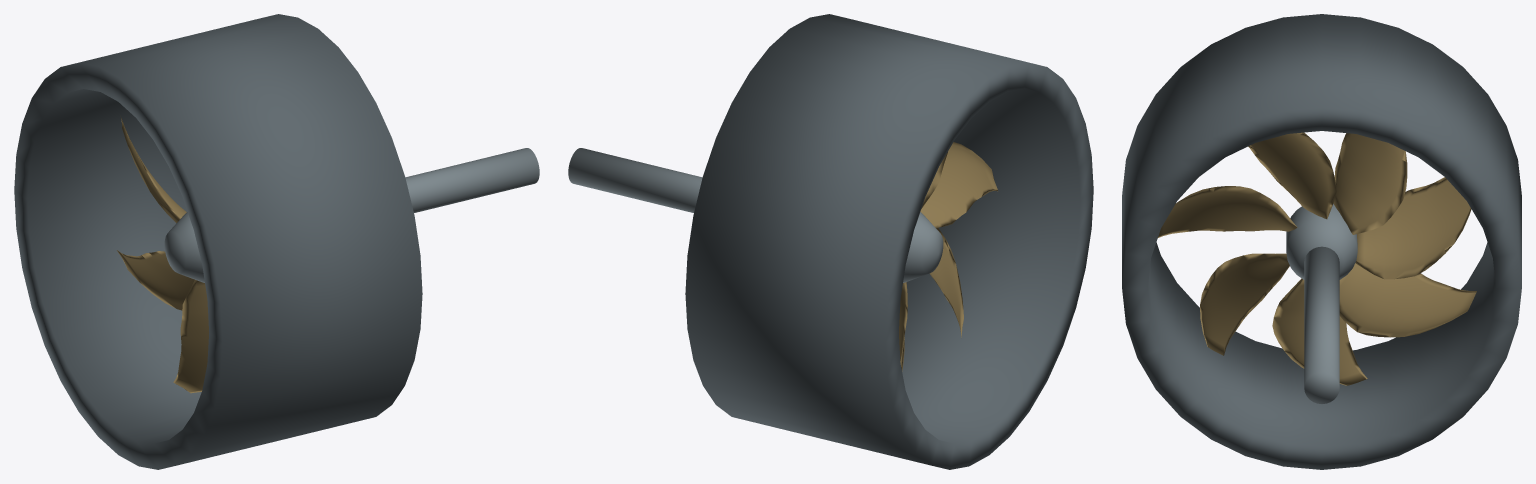
The model's file is RU_PROP_Typhoon_LOD0.fbx.
3 views of the same model, side by side, from view 1: azimuth 30°, elevation 25°; view 2: azimuth 150°, elevation 25°; view 3: azimuth 270°, elevation 25° (orthographic). The views are drawn at different scales.
Visible parts, largest first — view 1: RU_PROP_Typhoon_LOD0_Shroud.001, RU_PROP_Typhoon_LOD0_Shaft.001, RU_PROP_Typhoon_LOD0_Blade_05.001, RU_PROP_Typhoon_LOD0_Blade_06.001, RU_PROP_Typhoon_LOD0_Hub.001, RU_PROP_Typhoon_LOD0_Blade_00.001; view 2: RU_PROP_Typhoon_LOD0_Shroud.001, RU_PROP_Typhoon_LOD0_Shaft.001, RU_PROP_Typhoon_LOD0_Blade_03.001, RU_PROP_Typhoon_LOD0_Hub.001, RU_PROP_Typhoon_LOD0_Blade_04.001, RU_PROP_Typhoon_LOD0_Blade_05.001; view 3: RU_PROP_Typhoon_LOD0_Shroud.001, RU_PROP_Typhoon_LOD0_Blade_00.001, RU_PROP_Typhoon_LOD0_Blade_06.001, RU_PROP_Typhoon_LOD0_Blade_01.001, RU_PROP_Typhoon_LOD0_Shaft.001, RU_PROP_Typhoon_LOD0_Blade_04.001, RU_PROP_Typhoon_LOD0_Blade_03.001, RU_PROP_Typhoon_LOD0_Blade_02.001, RU_PROP_Typhoon_LOD0_Hub.001, RU_PROP_Typhoon_LOD0_Blade_05.001.
Part boxes in pixels (bbox=[...]): RU_PROP_Typhoon_LOD0_Shroud.001: bbox=[14, 14, 422, 469]; RU_PROP_Typhoon_LOD0_Shaft.001: bbox=[405, 148, 539, 212]; RU_PROP_Typhoon_LOD0_Blade_05.001: bbox=[173, 280, 208, 393]; RU_PROP_Typhoon_LOD0_Blade_06.001: bbox=[117, 250, 194, 310]; RU_PROP_Typhoon_LOD0_Hub.001: bbox=[164, 212, 204, 282]; RU_PROP_Typhoon_LOD0_Blade_00.001: bbox=[120, 116, 186, 222]; RU_PROP_Typhoon_LOD0_Shroud.001: bbox=[685, 14, 1093, 469]; RU_PROP_Typhoon_LOD0_Shaft.001: bbox=[568, 148, 702, 212]; RU_PROP_Typhoon_LOD0_Blade_03.001: bbox=[920, 142, 997, 228]; RU_PROP_Typhoon_LOD0_Hub.001: bbox=[903, 212, 943, 282]; RU_PROP_Typhoon_LOD0_Blade_04.001: bbox=[929, 228, 963, 337]; RU_PROP_Typhoon_LOD0_Blade_05.001: bbox=[899, 282, 907, 371]; RU_PROP_Typhoon_LOD0_Shroud.001: bbox=[1122, 14, 1521, 469]; RU_PROP_Typhoon_LOD0_Blade_00.001: bbox=[1355, 177, 1471, 279]; RU_PROP_Typhoon_LOD0_Blade_06.001: bbox=[1339, 263, 1476, 337]; RU_PROP_Typhoon_LOD0_Blade_01.001: bbox=[1333, 133, 1407, 234]; RU_PROP_Typhoon_LOD0_Shaft.001: bbox=[1304, 246, 1339, 403]; RU_PROP_Typhoon_LOD0_Blade_04.001: bbox=[1200, 253, 1289, 355]; RU_PROP_Typhoon_LOD0_Blade_03.001: bbox=[1158, 186, 1297, 237]; RU_PROP_Typhoon_LOD0_Blade_02.001: bbox=[1248, 132, 1336, 219]; RU_PROP_Typhoon_LOD0_Hub.001: bbox=[1286, 204, 1357, 279]; RU_PROP_Typhoon_LOD0_Blade_05.001: bbox=[1272, 278, 1367, 385].
Bounding box in the file's own units: 800 × 700 × 700.
